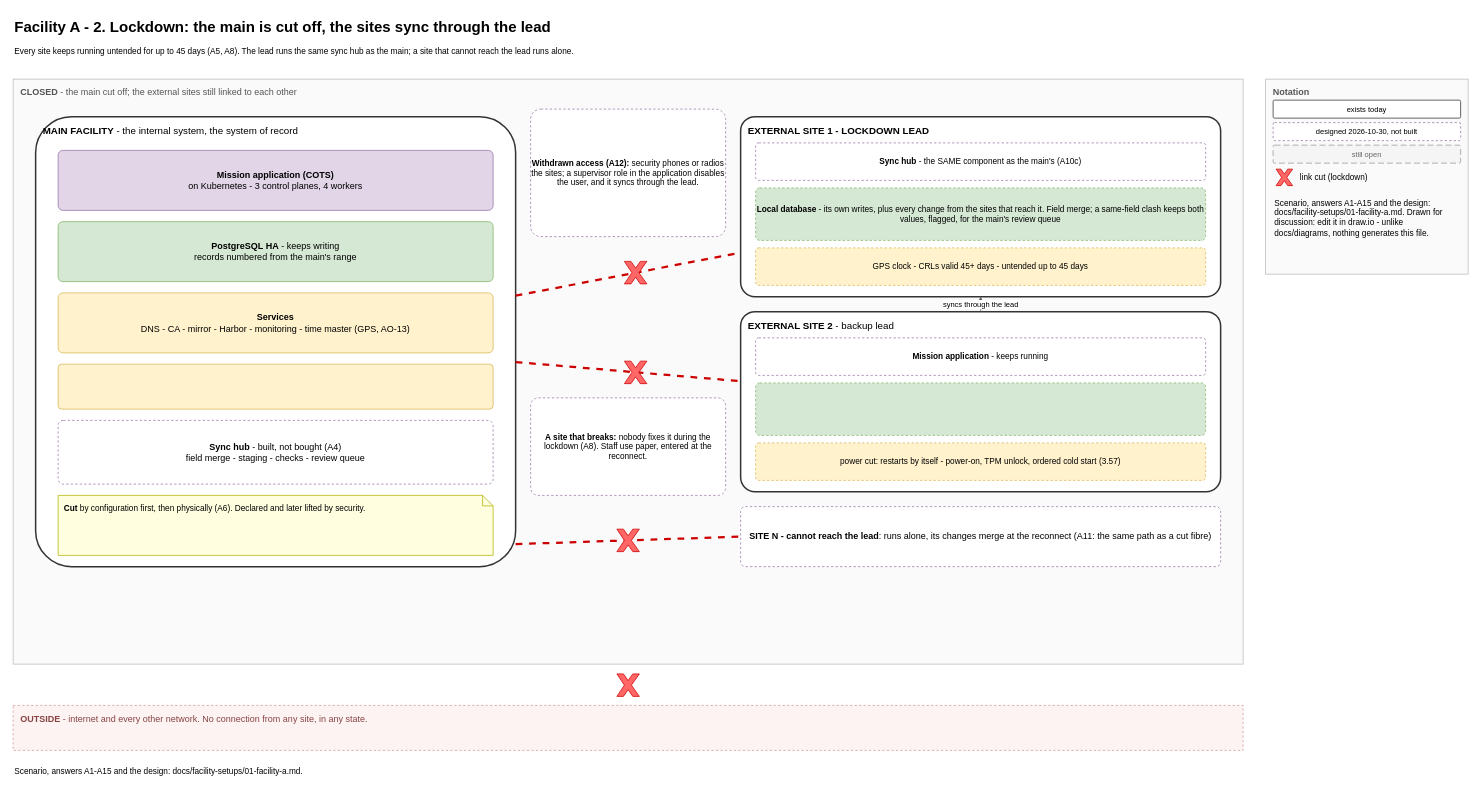
Some shapes in this 1481 by 804 pixel diagram are drawn without their labels. The centre of each missing label's shape, as x and y in pixels:
Backups - vm-backup.sh - pgBackRest: (275,386)
Local database - its own writes, own number range; syncs with the lead: (980,408)
